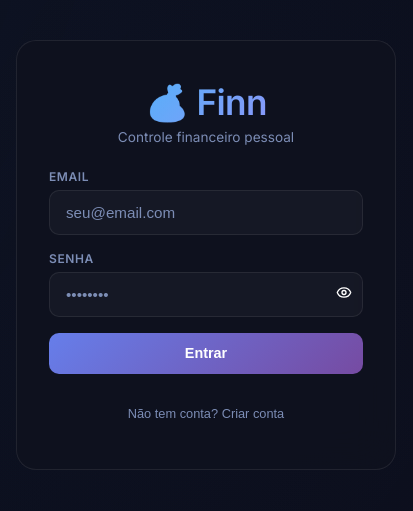
Test: Auth › mostra erro com credenciais inválidas
Type "a@b.com" into the field with placeholder "seu@email.com" at (206, 212), box [49,190,363,235]
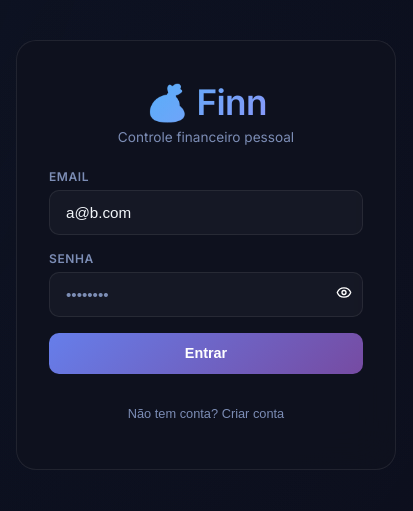
Type "123456" into the password field with placeholder "••••••••" at (206, 294), box [49,272,363,317]
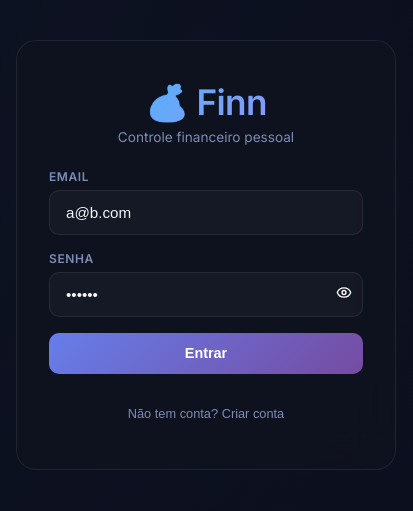
Click the button "Entrar" at (206, 353), box [49,333,363,374]
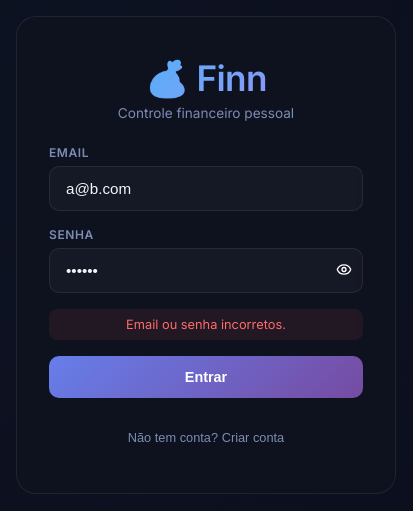
Expected: the text "Email ou senha incorretos." is shown, [49,309,363,340]
